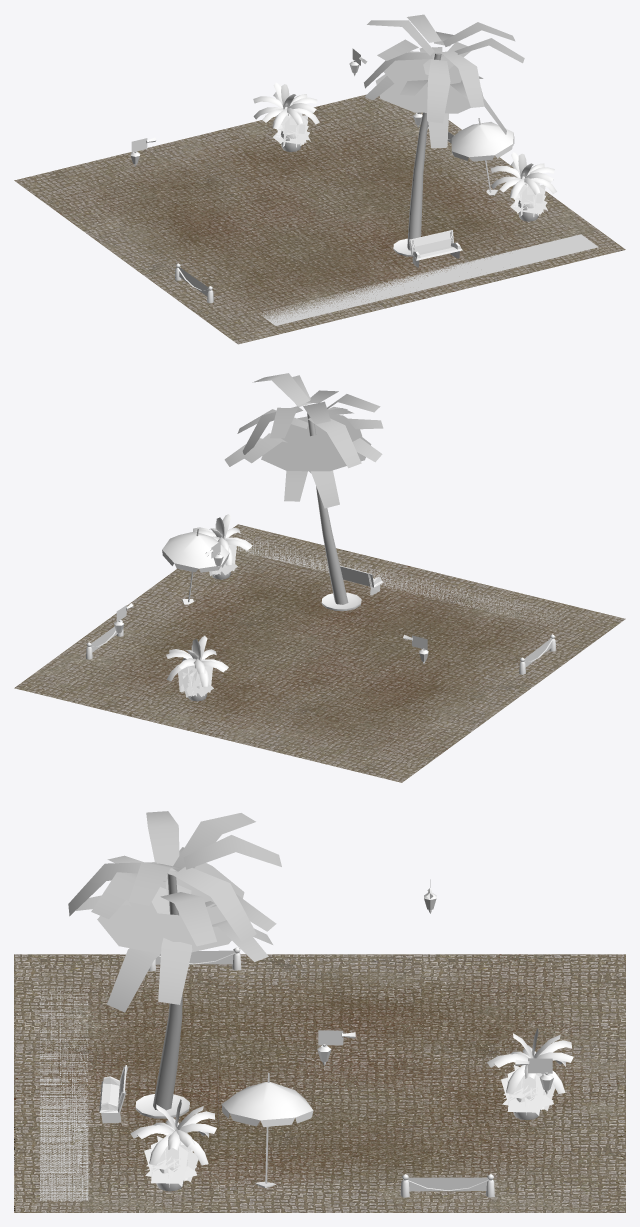
Rendered from propsonly_3b.gltf.
3 renders of one model, top to bottom at view 1: azimuth 30°, elevation 25°; view 2: azimuth 150°, elevation 25°; view 3: azimuth 270°, elevation 25°, orthographic. The views are drawn at different scales.
Parts seen in each view (by area): view 1: ground.013, prop_tree1.005, FeedbackBlocker.055, prop_sunshade1.007, prop_treepot_tree1.004, prop_treepot_tree1.003, prop_bench1.010, prop_treepot_bush1.003, prop_treepot_bush1.004, prop_chain_fence1.010; view 2: ground.013, prop_tree1.005, FeedbackBlocker.055, prop_sunshade1.007, prop_treepot_tree1.004, prop_treepot_tree1.003, prop_treepot_bush1.004, prop_bench1.010; view 3: ground.013, prop_tree1.005, FeedbackBlocker.055, prop_sunshade1.007, prop_treepot_tree1.003, prop_treepot_tree1.004, prop_treepot_bush1.003, prop_chain_fence1.011, prop_treepot_bush1.004, prop_bench1.010, prop_chain_fence1.010, prop_pot1.014 (+2 smaller).
Boxes of the visible parts, x1,y1,x2,y2 form: ground.013: (14, 94, 625, 344); prop_tree1.005: (364, 14, 524, 250); FeedbackBlocker.055: (259, 234, 598, 325); prop_sunshade1.007: (451, 118, 514, 195); prop_treepot_tree1.004: (253, 82, 319, 129); prop_treepot_tree1.003: (490, 152, 556, 199); prop_bench1.010: (409, 230, 462, 267); prop_treepot_bush1.003: (510, 181, 547, 216); prop_treepot_bush1.004: (273, 112, 310, 147); prop_chain_fence1.010: (175, 263, 213, 303); ground.013: (14, 524, 625, 782); prop_tree1.005: (224, 373, 383, 604); FeedbackBlocker.055: (236, 537, 564, 624); prop_sunshade1.007: (162, 529, 229, 604); prop_treepot_tree1.004: (166, 636, 228, 686); prop_treepot_tree1.003: (193, 514, 252, 565); prop_treepot_bush1.004: (178, 665, 213, 697); prop_bench1.010: (340, 565, 383, 595); ground.013: (14, 954, 625, 1212); prop_tree1.005: (68, 811, 281, 1110); FeedbackBlocker.055: (40, 986, 88, 1200); prop_sunshade1.007: (221, 1072, 313, 1187); prop_treepot_tree1.003: (130, 1099, 216, 1165); prop_treepot_tree1.004: (487, 1028, 573, 1094); prop_treepot_bush1.003: (144, 1136, 198, 1187); prop_chain_fence1.011: (400, 1174, 494, 1197); prop_treepot_bush1.004: (501, 1065, 555, 1115); prop_bench1.010: (99, 1065, 128, 1123); prop_chain_fence1.010: (148, 947, 241, 971); prop_pot1.014: (135, 1094, 189, 1118).
Size of what is drawn, in the model's own units: 3.3 by 1.81 by 3.3.
